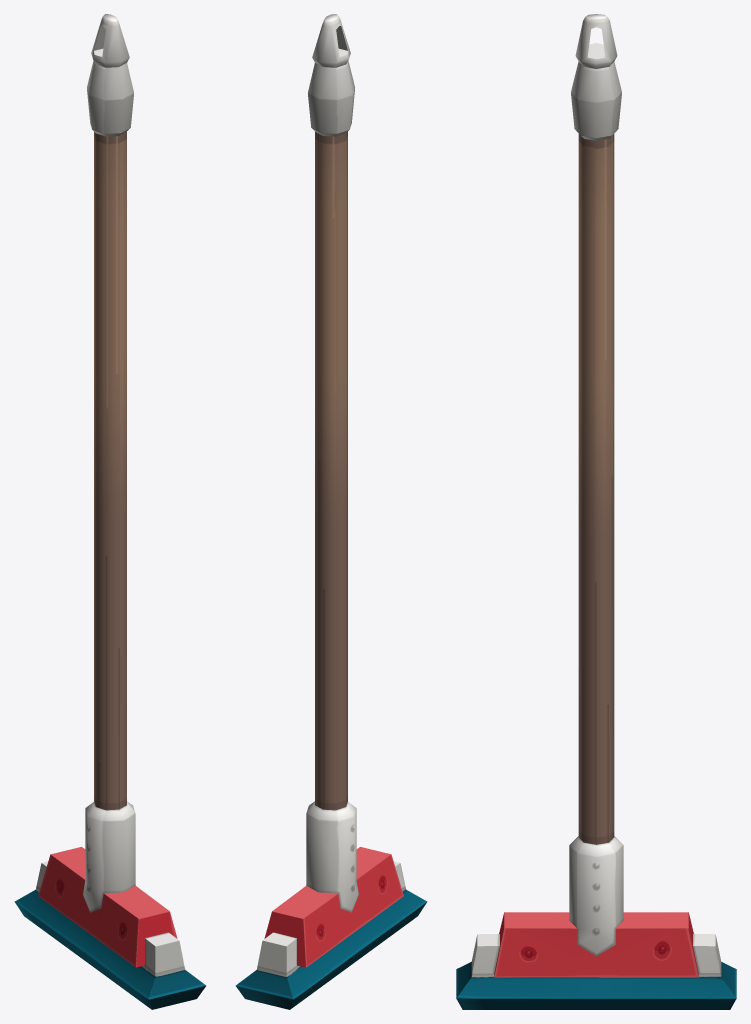
The model's file is cleaners_floorWiper_1.fbx.
The picture shows the model from 3 angles, left to right: view 1: azimuth 30°, elevation 25°; view 2: azimuth 150°, elevation 25°; view 3: azimuth 270°, elevation 25°; orthographic projection. The views are drawn at different scales.
Parts seen in each view (by area): view 1: cleaners_floorWiper_1; view 2: cleaners_floorWiper_1; view 3: cleaners_floorWiper_1.
Boxes of the visible parts, x1,y1,x2,y2 form: cleaners_floorWiper_1: (14,14,206,1009); cleaners_floorWiper_1: (235,14,427,1009); cleaners_floorWiper_1: (456,14,736,1009).
Size of the model in its own units: 4.2 by 65.02 by 16.81.
